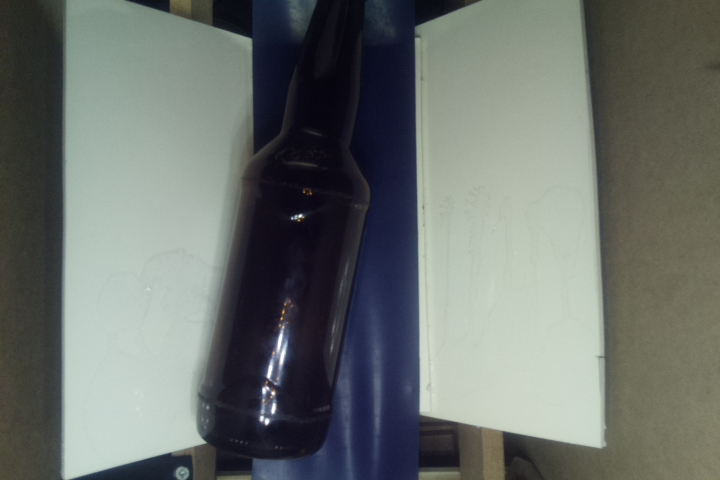makju: (194, 1, 372, 458)
